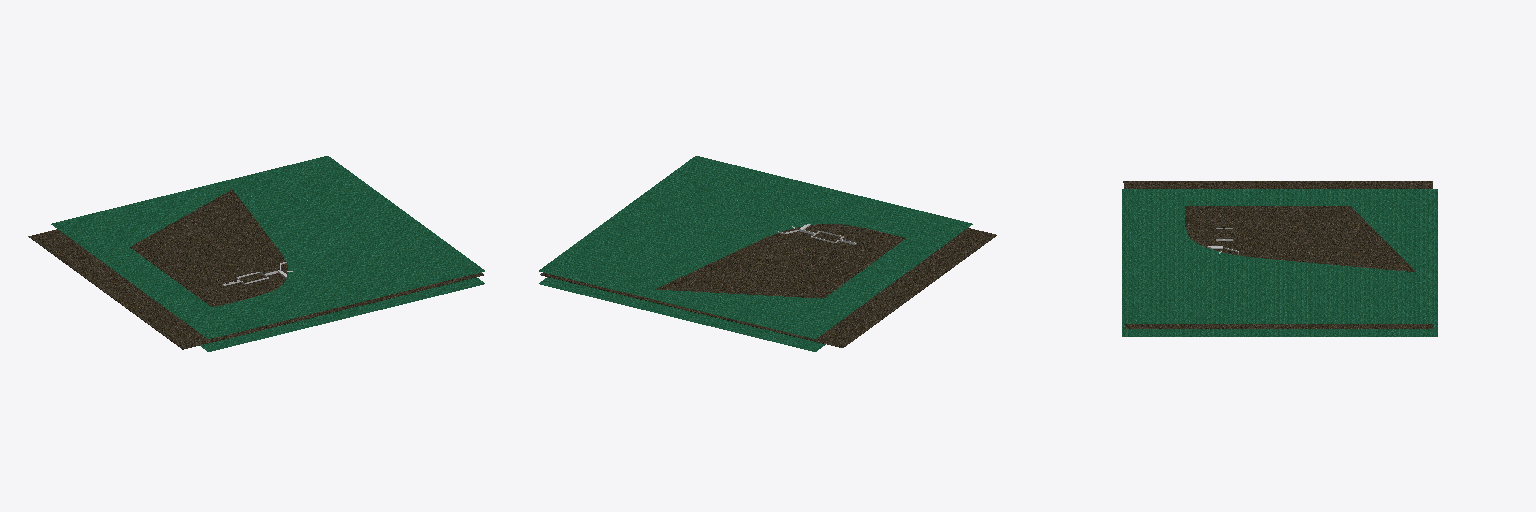
3 views of the same model, side by side, from view 1: azimuth 30°, elevation 25°; view 2: azimuth 150°, elevation 25°; view 3: azimuth 270°, elevation 25° (orthographic).
Visible parts, largest first — view 1: entity33_brush0, entity0_brush0, entity56_brush0; view 2: entity33_brush0, entity0_brush0, entity56_brush0; view 3: entity33_brush0, entity0_brush0, entity56_brush0.
Part boxes in pixels (bbox=[...]): entity33_brush0: bbox=[51, 156, 484, 351]; entity0_brush0: bbox=[130, 189, 287, 306]; entity56_brush0: bbox=[28, 229, 483, 349]; entity33_brush0: bbox=[539, 156, 972, 351]; entity0_brush0: bbox=[655, 224, 905, 298]; entity56_brush0: bbox=[540, 228, 996, 347]; entity33_brush0: bbox=[1122, 189, 1437, 336]; entity0_brush0: bbox=[1185, 206, 1415, 271]; entity56_brush0: bbox=[1123, 181, 1433, 328].
Size of the model in its own units: 29600 by 1422 by 26752.
Materials: 7 (4 with a texture image).